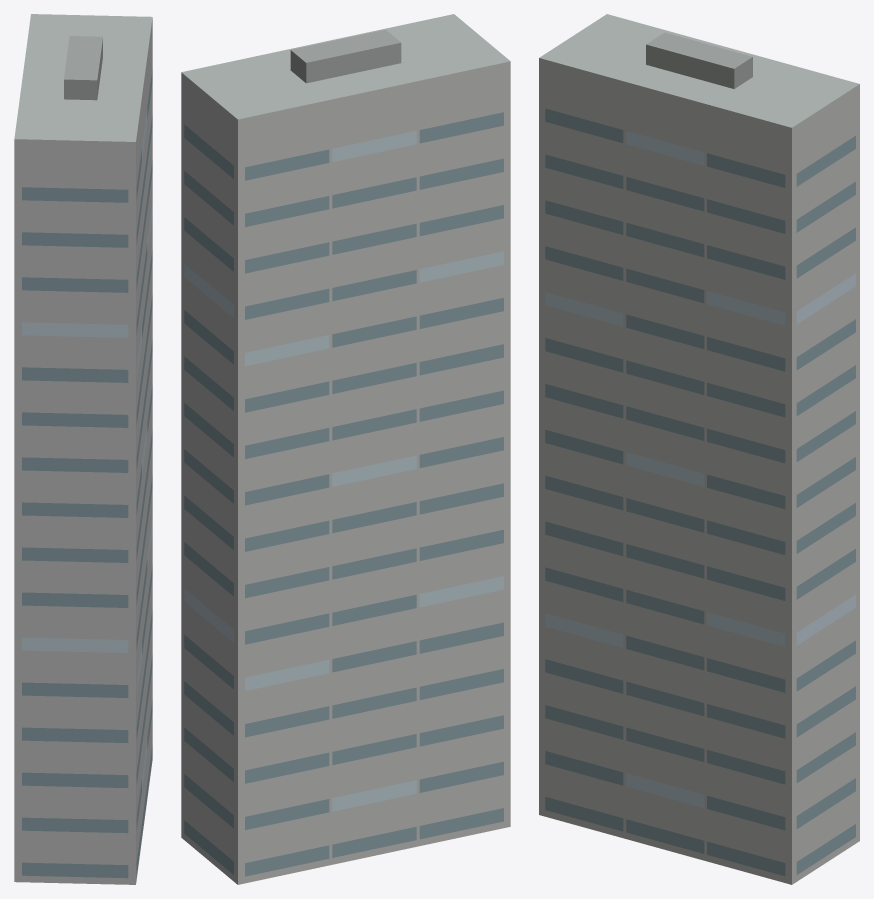
Rendered from fallback-jamsil-parkrio-206.glb.
3 views of the same model, side by side, from view 1: azimuth 30°, elevation 25°; view 2: azimuth 150°, elevation 25°; view 3: azimuth 270°, elevation 25° (orthographic). The views are drawn at different scales.
Parts seen in each view (by area): view 1: fallback-jamsil-parkrio-206; view 2: fallback-jamsil-parkrio-206; view 3: fallback-jamsil-parkrio-206.
Boxes of the visible parts, bbox=[...] form: fallback-jamsil-parkrio-206: bbox=[14, 14, 152, 884]; fallback-jamsil-parkrio-206: bbox=[181, 14, 510, 884]; fallback-jamsil-parkrio-206: bbox=[539, 14, 859, 884].
Size of the model in its own units: 28.91 by 92 by 34.42.
